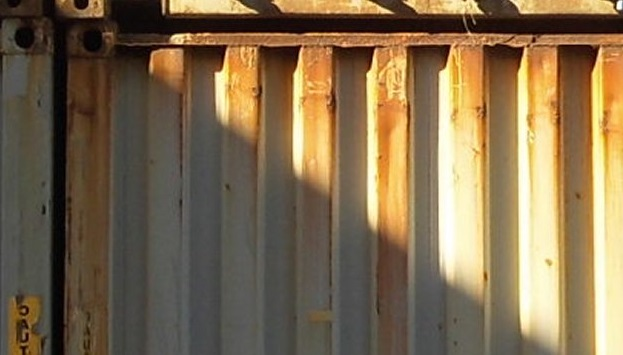container_no_door: (71, 18, 621, 352)
